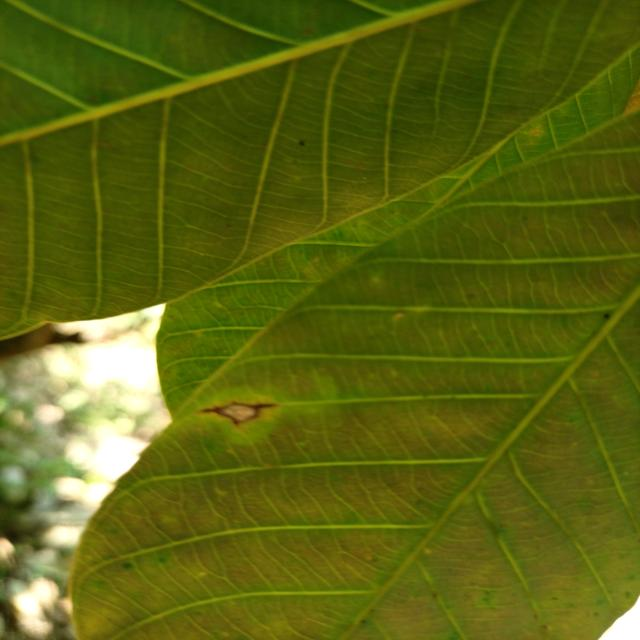Corynespora: (198, 399, 276, 427)
